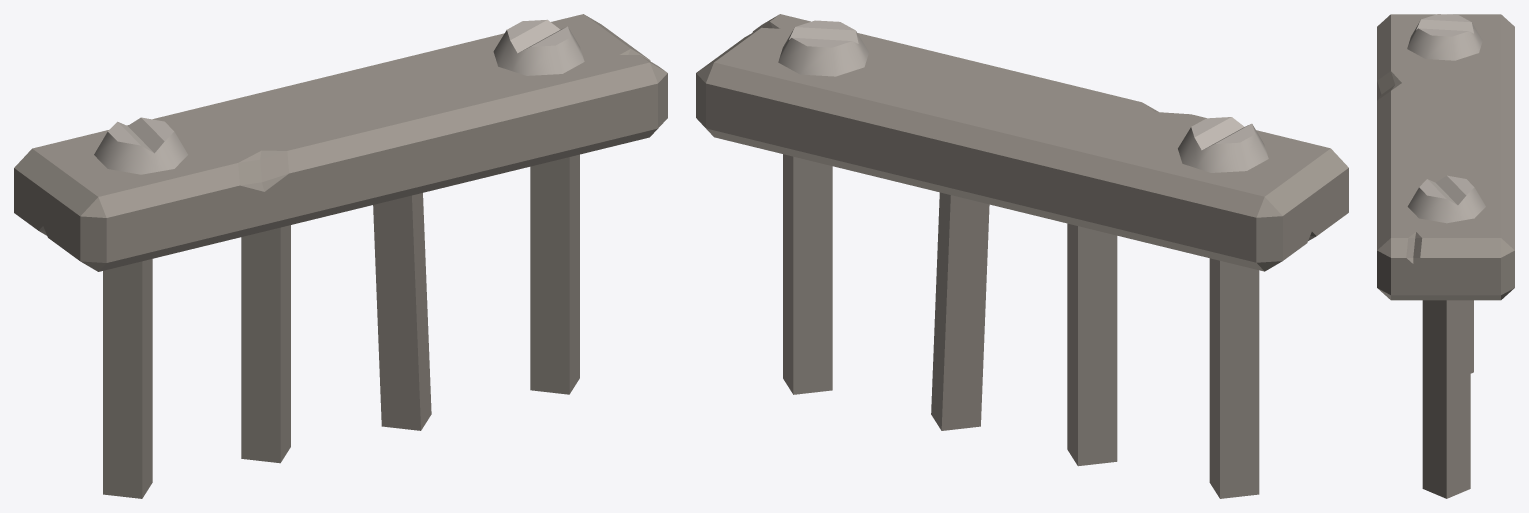
The model's file is m_dec_dung_grillFence.fbx.
The picture shows the model from 3 angles, left to right: view 1: azimuth 30°, elevation 25°; view 2: azimuth 150°, elevation 25°; view 3: azimuth 270°, elevation 25°; orthographic projection. The views are drawn at different scales.
Visible parts, largest first — view 1: m_dec_dung_grillFence; view 2: m_dec_dung_grillFence; view 3: m_dec_dung_grillFence.
Boxes of the visible parts, x1,y1,x2,y2 form: m_dec_dung_grillFence: [14, 14, 667, 498]; m_dec_dung_grillFence: [696, 14, 1348, 498]; m_dec_dung_grillFence: [1377, 14, 1514, 498].
Size of the model in its own units: 2 by 1.15 by 0.488.
